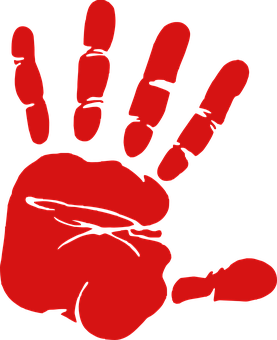palm: (13, 155, 168, 333)
